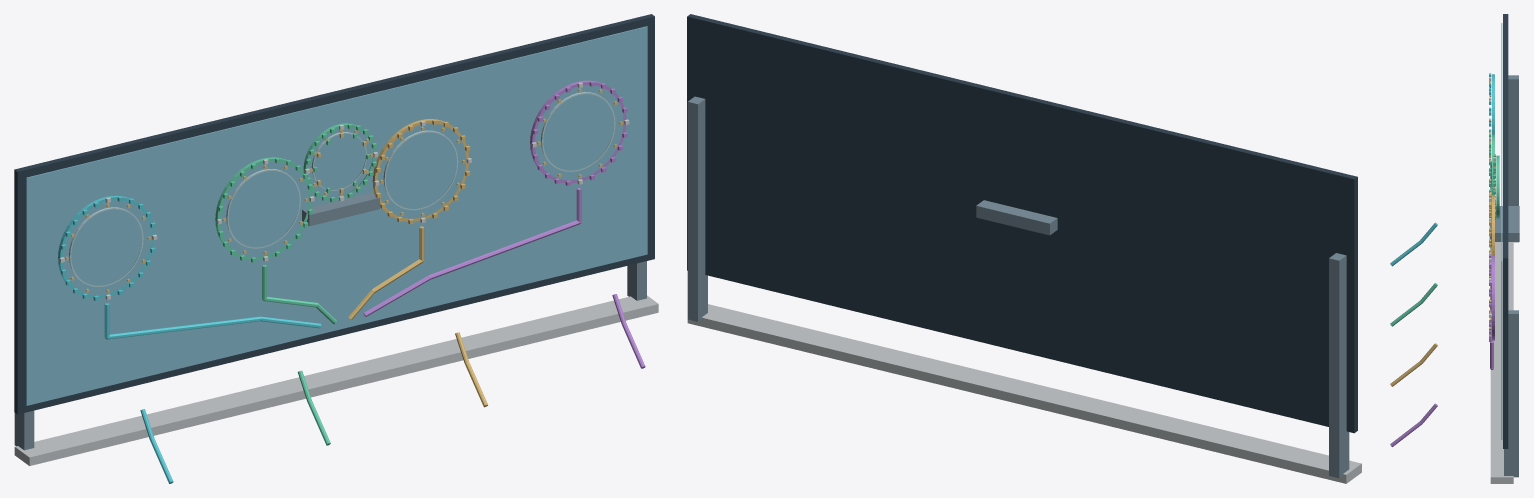
File: 67_L80_GiantWavelengthRoutingHologram.glb
The picture shows the model from 3 angles, left to right: view 1: azimuth 30°, elevation 25°; view 2: azimuth 150°, elevation 25°; view 3: azimuth 270°, elevation 25°; orthographic projection. The views are drawn at different scales.
Visible parts, largest first — view 1: GiantWavelengthRoutingHologram_Node_0017, GiantWavelengthRoutingHologram_Node_0016, GiantWavelengthRoutingHologram_Node_0015, GiantWavelengthRoutingHologram_Node_0014, GiantWavelengthRoutingHologram_Node_0228, GiantWavelengthRoutingHologram_Node_0061, GiantWavelengthRoutingHologram_Node_0018, GiantWavelengthRoutingHologram_Node_0147, GiantWavelengthRoutingHologram_Node_0104, GiantWavelengthRoutingHologram_Node_0186, GiantWavelengthRoutingHologram_Node_0057, GiantWavelengthRoutingHologram_Node_0012 (+1 smaller); view 2: GiantWavelengthRoutingHologram_Node_0016, GiantWavelengthRoutingHologram_Node_0014, GiantWavelengthRoutingHologram_Node_0015, GiantWavelengthRoutingHologram_Node_0013, GiantWavelengthRoutingHologram_Node_0012, GiantWavelengthRoutingHologram_Node_0228; view 3: GiantWavelengthRoutingHologram_Node_0016, GiantWavelengthRoutingHologram_Node_0015, GiantWavelengthRoutingHologram_Node_0013, GiantWavelengthRoutingHologram_Node_0012, GiantWavelengthRoutingHologram_Node_0017, GiantWavelengthRoutingHologram_Node_0014, GiantWavelengthRoutingHologram_Node_0228, GiantWavelengthRoutingHologram_Node_0147, GiantWavelengthRoutingHologram_Node_0190, GiantWavelengthRoutingHologram_Node_0018, GiantWavelengthRoutingHologram_Node_0104, GiantWavelengthRoutingHologram_Node_0009 (+3 smaller).
Part boxes in pixels (x1,y1,x2,y2): GiantWavelengthRoutingHologram_Node_0017: (26,26,647,405); GiantWavelengthRoutingHologram_Node_0016: (14,14,654,414); GiantWavelengthRoutingHologram_Node_0015: (22,298,658,465); GiantWavelengthRoutingHologram_Node_0014: (14,295,650,460); GiantWavelengthRoutingHologram_Node_0228: (302,192,379,226); GiantWavelengthRoutingHologram_Node_0061: (215,157,311,259); GiantWavelengthRoutingHologram_Node_0018: (58,195,154,298); GiantWavelengthRoutingHologram_Node_0147: (530,80,626,183); GiantWavelengthRoutingHologram_Node_0104: (372,119,468,221); GiantWavelengthRoutingHologram_Node_0186: (429,220,579,279); GiantWavelengthRoutingHologram_Node_0057: (107,316,261,339); GiantWavelengthRoutingHologram_Node_0012: (14,410,34,450); GiantWavelengthRoutingHologram_Node_0016: (687,14,1357,433); GiantWavelengthRoutingHologram_Node_0014: (687,312,1354,483); GiantWavelengthRoutingHologram_Node_0015: (708,304,1361,477); GiantWavelengthRoutingHologram_Node_0013: (687,96,707,321); GiantWavelengthRoutingHologram_Node_0012: (1329,253,1349,478); GiantWavelengthRoutingHologram_Node_0228: (976,200,1057,235); GiantWavelengthRoutingHologram_Node_0016: (1503,14,1508,448); GiantWavelengthRoutingHologram_Node_0015: (1490,242,1502,483); GiantWavelengthRoutingHologram_Node_0013: (1504,310,1518,477); GiantWavelengthRoutingHologram_Node_0012: (1508,75,1518,242); GiantWavelengthRoutingHologram_Node_0017: (1501,23,1502,439); GiantWavelengthRoutingHologram_Node_0014: (1501,242,1513,483); GiantWavelengthRoutingHologram_Node_0228: (1489,206,1519,241); GiantWavelengthRoutingHologram_Node_0147: (1492,255,1494,340); GiantWavelengthRoutingHologram_Node_0190: (1496,155,1499,218); GiantWavelengthRoutingHologram_Node_0018: (1492,74,1494,134); GiantWavelengthRoutingHologram_Node_0104: (1492,195,1494,255); GiantWavelengthRoutingHologram_Node_0009: (1390,421,1422,446).
Size of the model in its own units: 7.7 by 3.34 by 1.73.
